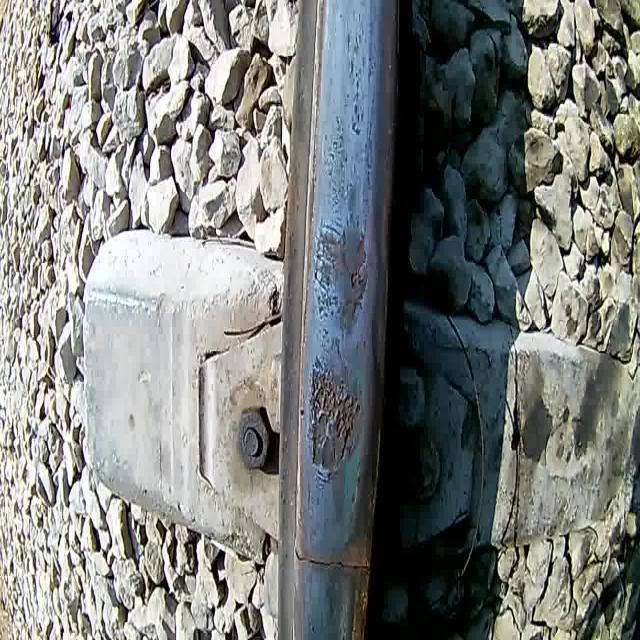Cracks: (310, 214, 348, 288), (314, 318, 354, 381), (313, 463, 334, 499)
Joint: (290, 536, 376, 580)
Spallings: (306, 361, 364, 476), (348, 227, 372, 300), (312, 284, 344, 324)
Squats: (300, 351, 369, 530), (307, 177, 376, 342)
